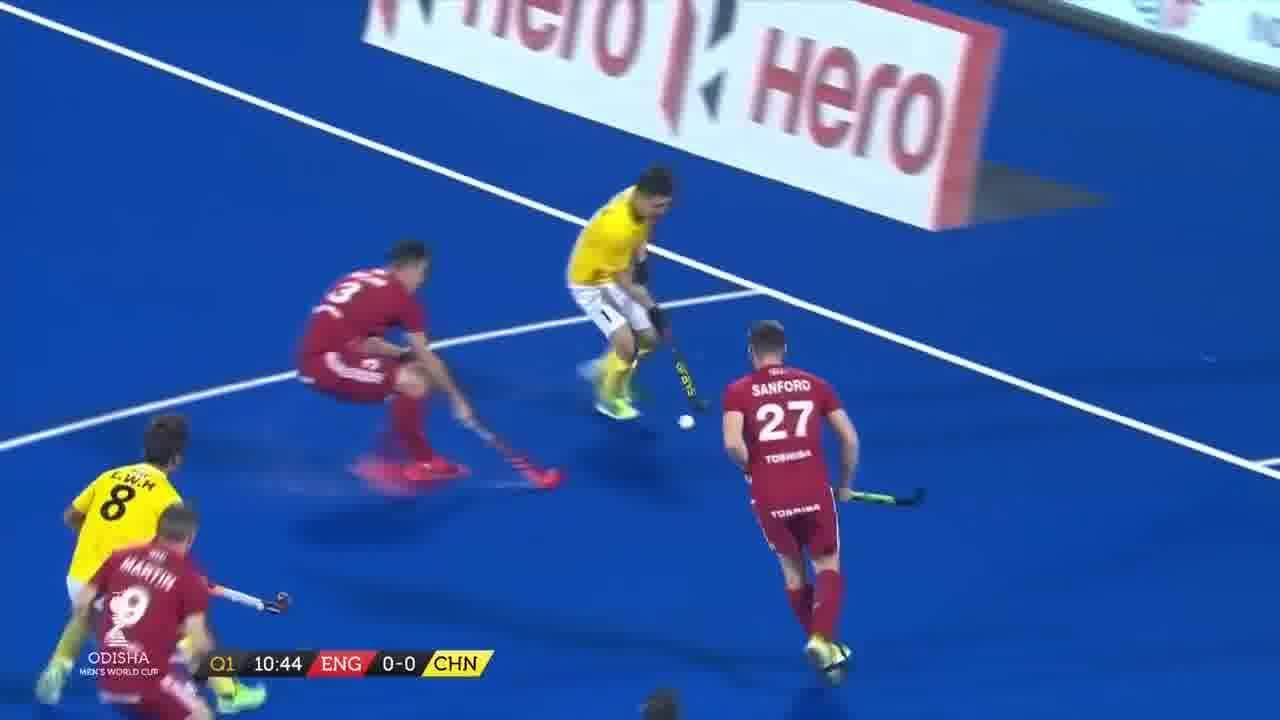ball: (674, 410, 696, 434)
